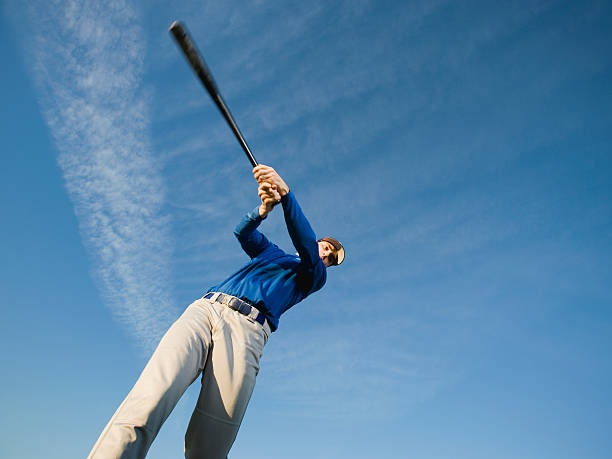bita: (172, 21, 265, 187)
